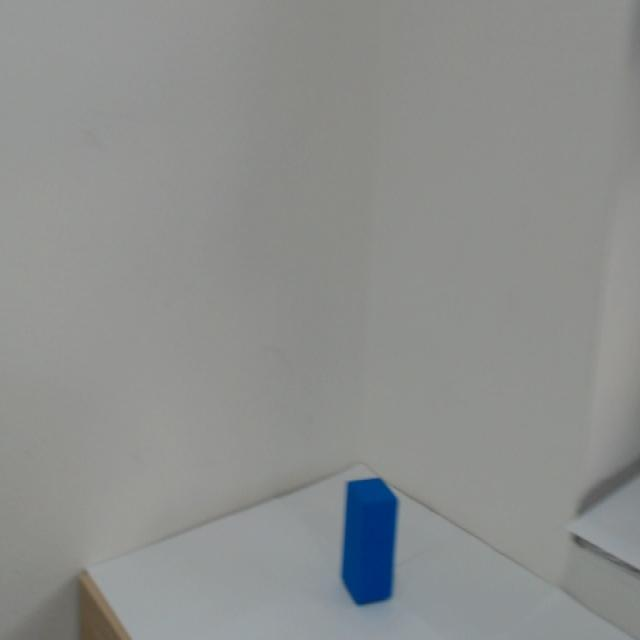cube: (330, 474, 416, 631)
